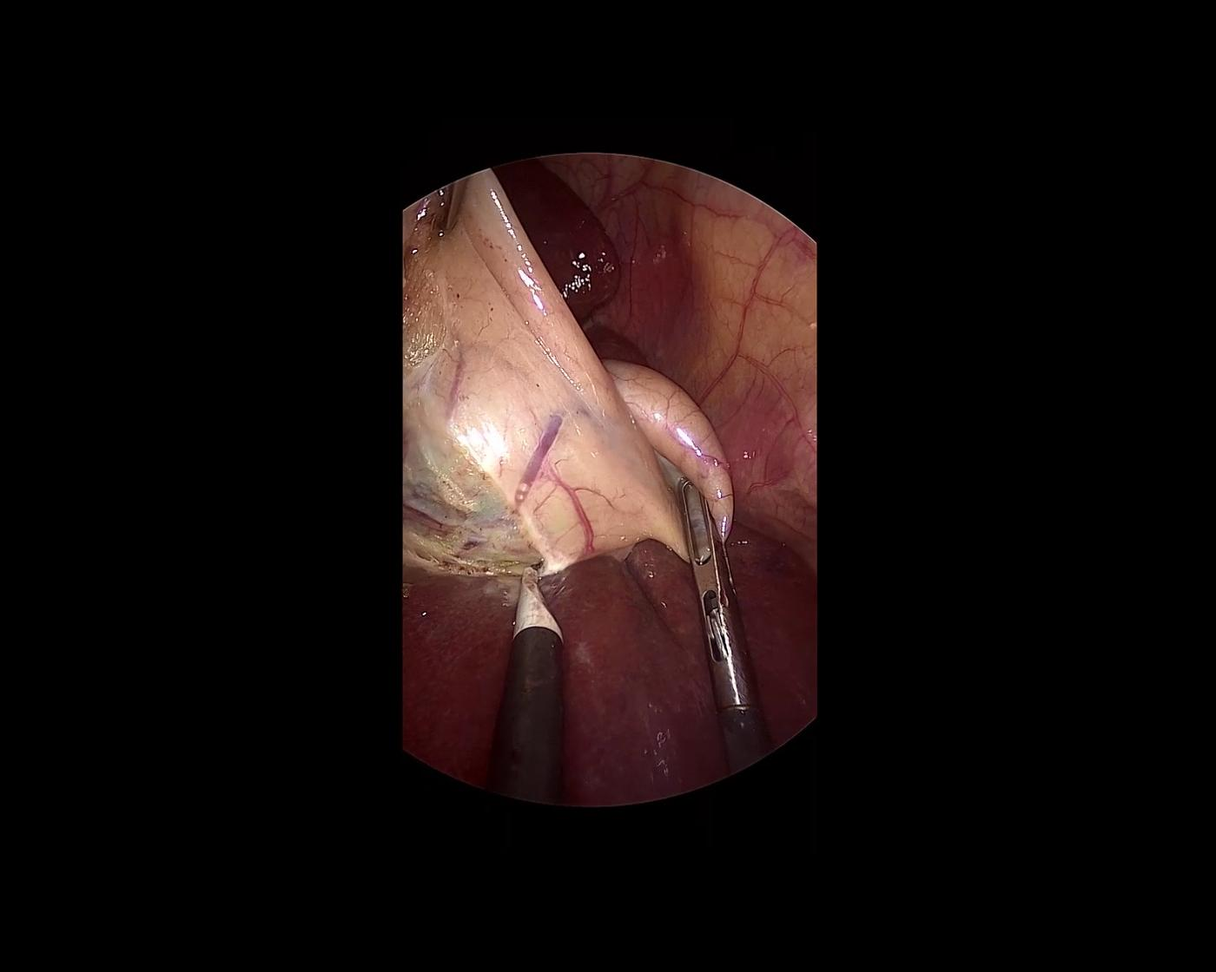Cautery: (487, 563, 565, 801)
Forceps: (653, 470, 777, 774)
Gallbladder: (404, 171, 731, 576)
Liver: (375, 513, 845, 834), (494, 141, 653, 388)
